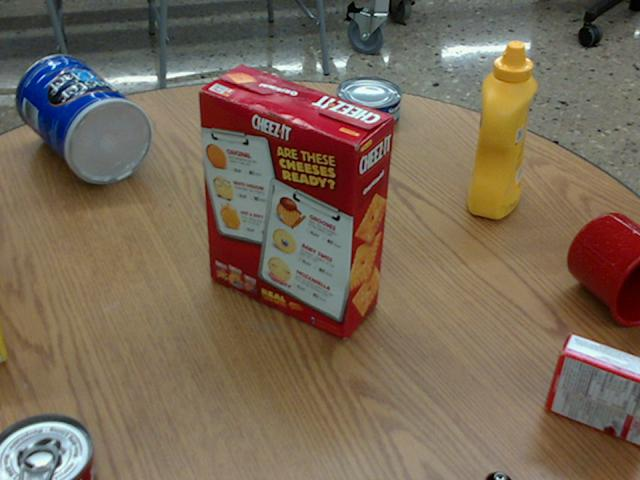cracker_box: (201, 65, 396, 337)
gelatin_box: (547, 335, 639, 445)
large_marker: (494, 475, 514, 479)
master_chef_can: (19, 55, 154, 184)
mug: (568, 212, 639, 326)
mustard_bottle: (468, 40, 537, 217)
potted_meat_can: (236, 87, 322, 196)
sugar_box: (0, 311, 10, 361)
tomato_soup_can: (0, 413, 103, 479)
tuna_fish_can: (337, 74, 403, 128)
